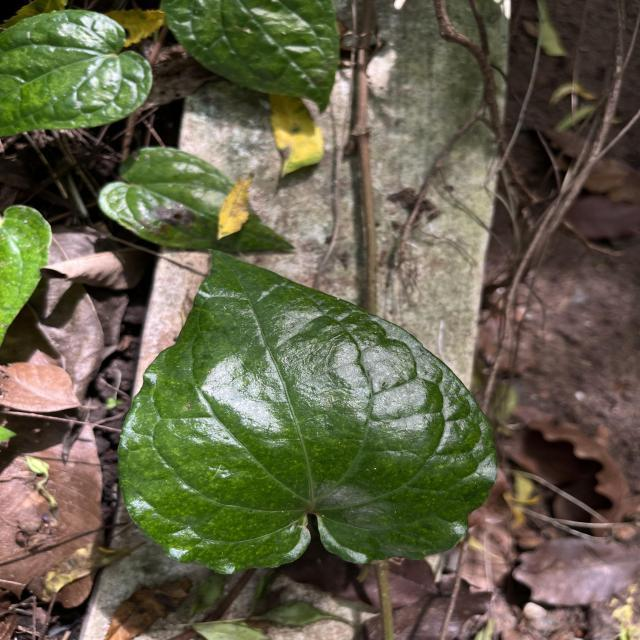Piper betle: (114, 245, 501, 577)
